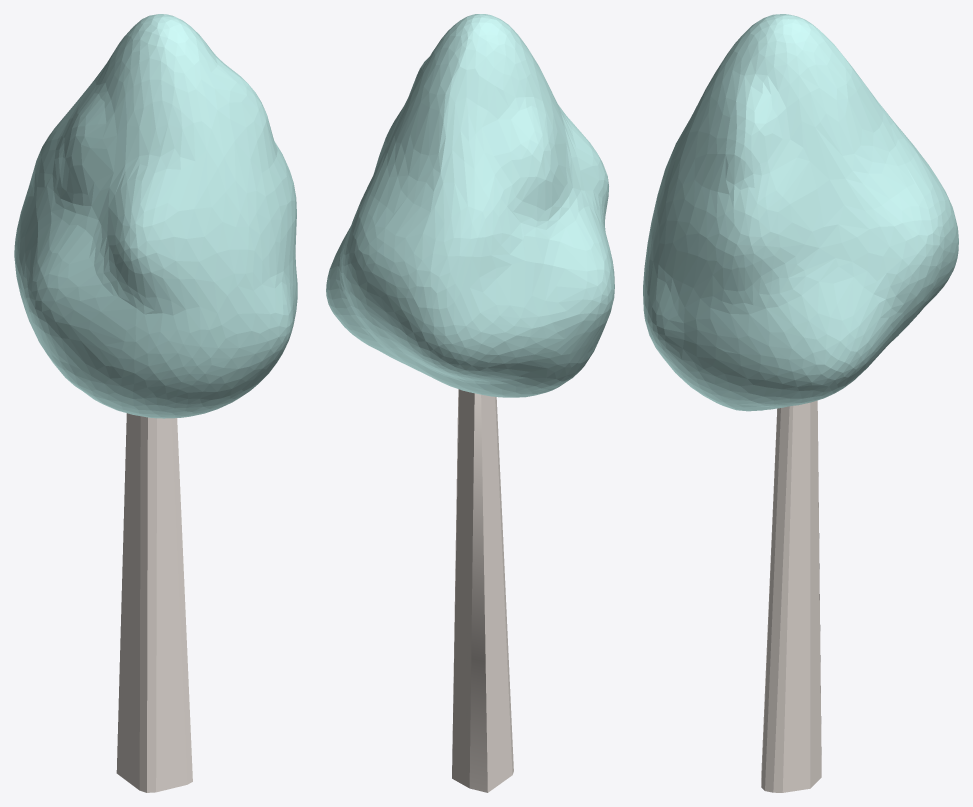
The model's file is tree5.gltf.
3 renders of one model, left to right at view 1: azimuth 30°, elevation 25°; view 2: azimuth 150°, elevation 25°; view 3: azimuth 270°, elevation 25°, orthographic.
Parts seen in each view (by area): view 1: Icosphere, Cube; view 2: Icosphere, Cube; view 3: Icosphere, Cube.
Part boxes in pixels (left/top/right/bottom): Icosphere: left=14, top=14, right=297, bottom=418; Cube: left=116, top=413, right=192, bottom=792; Icosphere: left=326, top=14, right=614, bottom=397; Cube: left=452, top=389, right=513, bottom=792; Icosphere: left=643, top=14, right=958, bottom=411; Cube: left=761, top=400, right=821, bottom=792.
Size of the model in its own units: 5.06 by 14.26 by 5.33.
